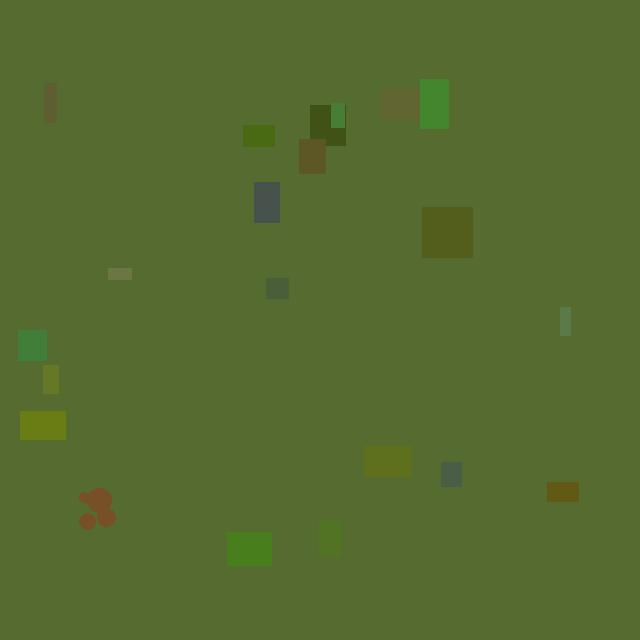pest_damage: (75, 484, 115, 547)
